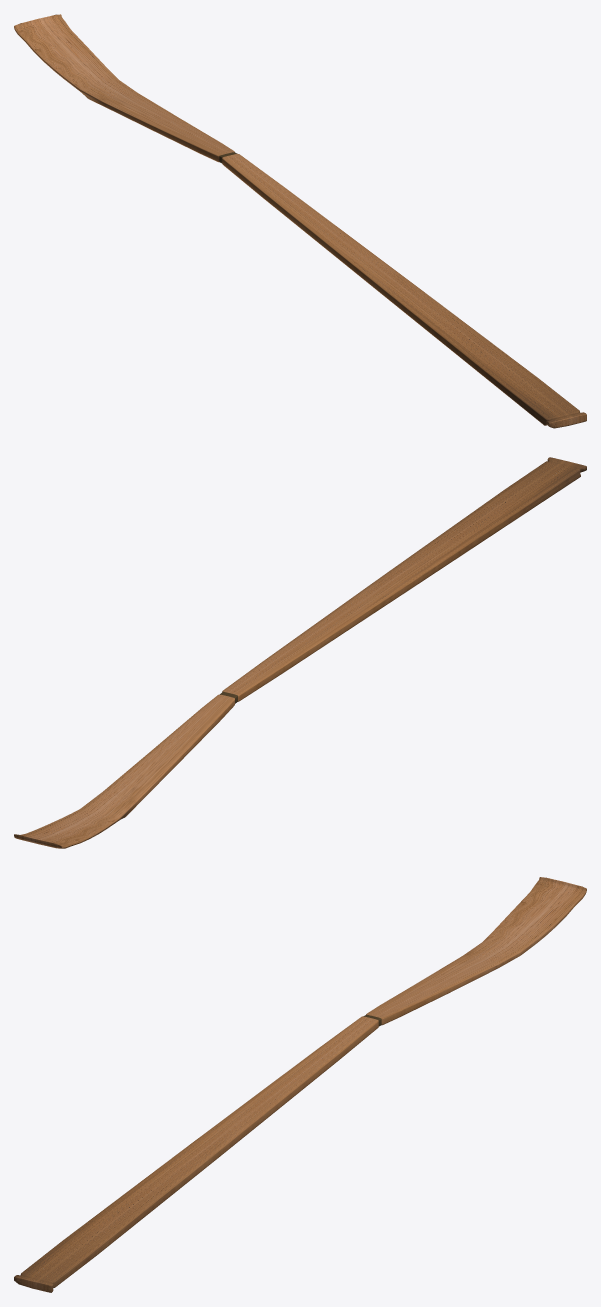
The model's file is Macha_Tool_fbx.fbx.
3 views of the same model, one above another, from view 1: azimuth 30°, elevation 25°; view 2: azimuth 150°, elevation 25°; view 3: azimuth 330°, elevation 25° (orthographic).
Parts seen in each view (by area): view 1: macha_Tool; view 2: macha_Tool; view 3: macha_Tool.
Boxes of the visible parts, <box> form: macha_Tool: <box>14,14,586,428</box>; macha_Tool: <box>14,457,586,848</box>; macha_Tool: <box>14,877,586,1292</box>.
Size of the model in its own units: 0.451 by 0.2667 by 8.68.
Materials: 2 (1 with a texture image).
